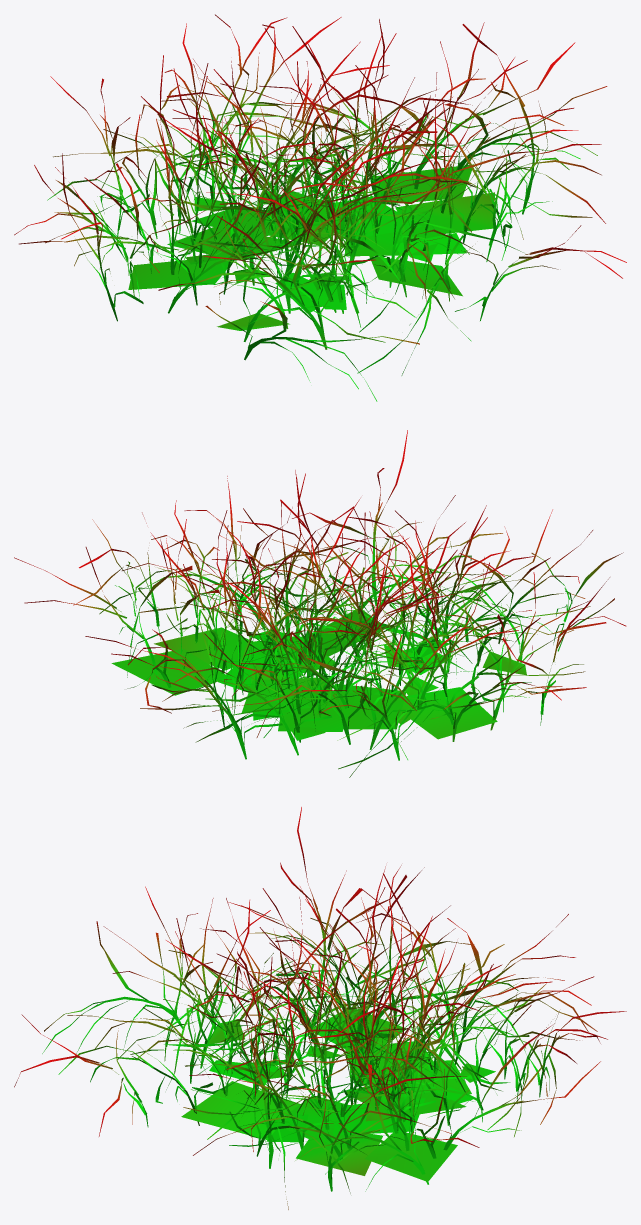
File: Kikuyu Grass_LOD3_Var8_wiljearqx.fbx
3 views of the same model, one above another, from view 1: azimuth 30°, elevation 25°; view 2: azimuth 150°, elevation 25°; view 3: azimuth 270°, elevation 25° (orthographic). The views are drawn at different scales.
Visible parts, largest first — view 1: _15qx_Var8_LOD3; view 2: _15qx_Var8_LOD3; view 3: _15qx_Var8_LOD3.
Part boxes in pixels (left/top/right/bottom): _15qx_Var8_LOD3: left=14, top=14, right=626, bottom=401; _15qx_Var8_LOD3: left=14, top=430, right=626, bottom=777; _15qx_Var8_LOD3: left=14, top=807, right=626, bottom=1209.
Size of the model in its own units: 102 by 37.85 by 97.26.
